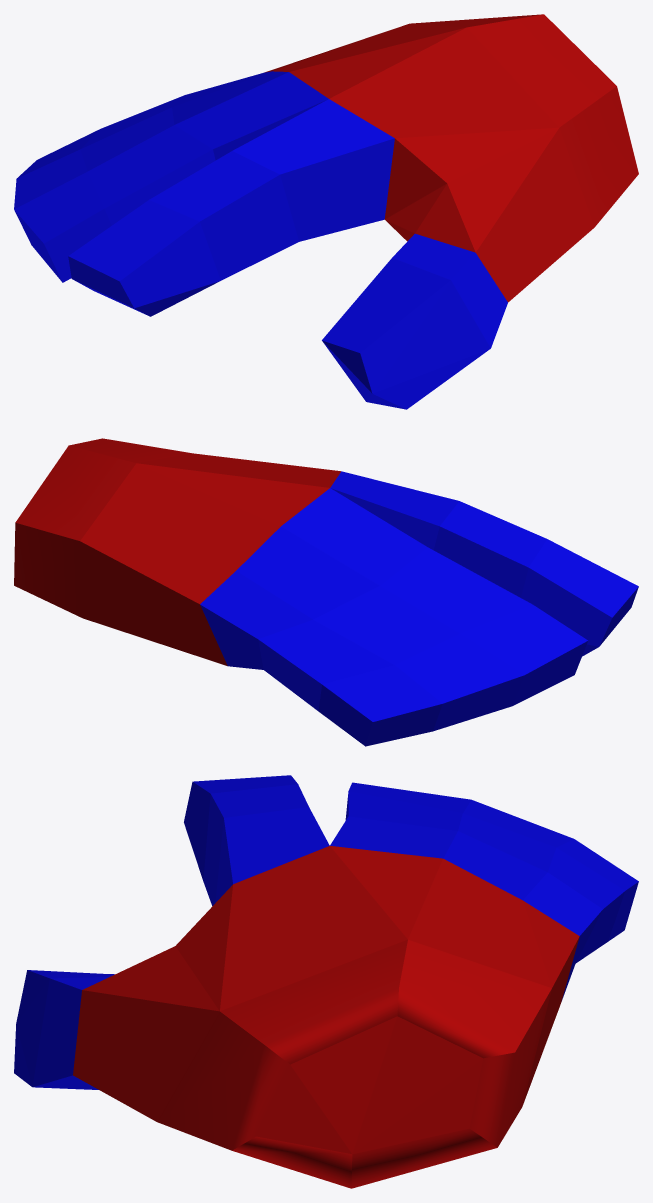
The model's file is Chr_HandRight_Male_Static_08.fbx.
The picture shows the model from 3 angles, top to bottom: view 1: azimuth 30°, elevation 25°; view 2: azimuth 150°, elevation 25°; view 3: azimuth 270°, elevation 25°; orthographic projection. The views are drawn at different scales.
Parts seen in each view (by area): view 1: Chr_HandRight_Male_08; view 2: Chr_HandRight_Male_08; view 3: Chr_HandRight_Male_08.
Boxes of the visible parts, box(x1,y1,x2,y2) form: Chr_HandRight_Male_08: box(14, 14, 638, 409); Chr_HandRight_Male_08: box(14, 438, 638, 746); Chr_HandRight_Male_08: box(14, 775, 638, 1188).
Size of the model in its own units: 23.7 by 9.52 by 18.8.
